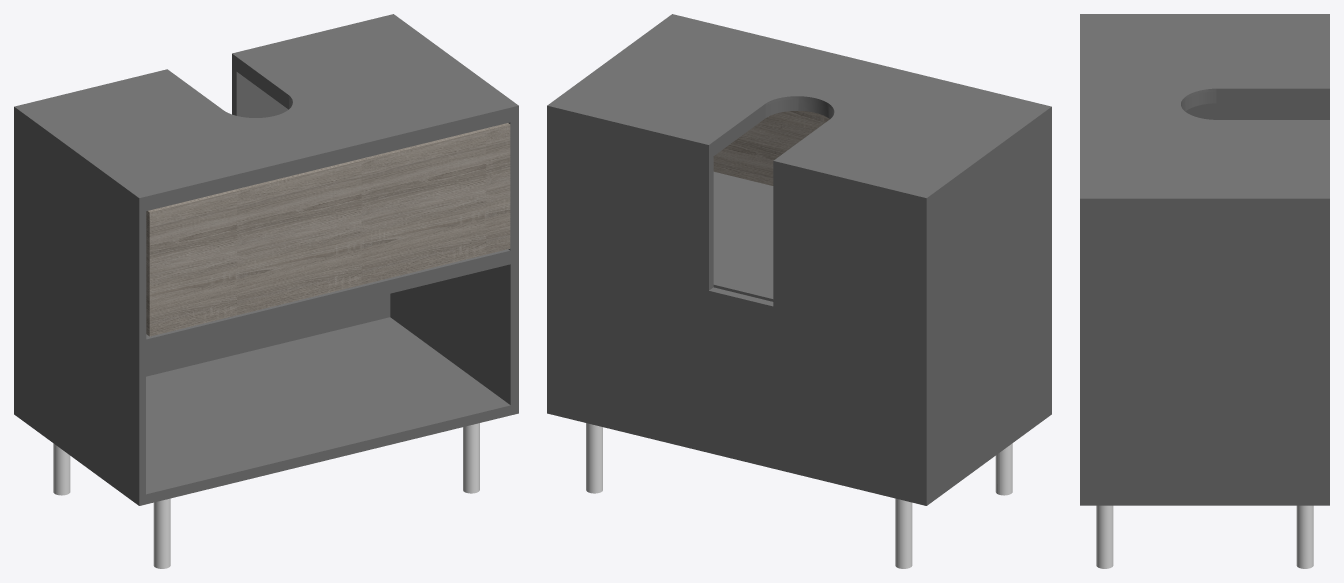
File: Waschtischunterbau.glb
The picture shows the model from 3 angles, left to right: view 1: azimuth 30°, elevation 25°; view 2: azimuth 150°, elevation 25°; view 3: azimuth 270°, elevation 25°; orthographic projection.
Visible parts, largest first — view 1: Mesh1 Component_193 G_23_Waschtischunterbau_dwg1 Model, Mesh19 Component_199 G_23_Waschtischunterbau_dwg1 Model, Mesh21 Component_200 G_23_Waschtischunterbau_dwg1 Model, Mesh23 Component_201 G_23_Waschtischunterbau_dwg1 Model, Mesh25 Component_202 G_23_Waschtischunterbau_dwg1 Model; view 2: Mesh1 Component_193 G_23_Waschtischunterbau_dwg1 Model, Mesh19 Component_199 G_23_Waschtischunterbau_dwg1 Model, Mesh25 Component_202 G_23_Waschtischunterbau_dwg1 Model, Mesh27 Component_203 G_23_Waschtischunterbau_dwg1 Model, Mesh21 Component_200 G_23_Waschtischunterbau_dwg1 Model; view 3: Mesh1 Component_193 G_23_Waschtischunterbau_dwg1 Model, Mesh27 Component_203 G_23_Waschtischunterbau_dwg1 Model, Mesh23 Component_201 G_23_Waschtischunterbau_dwg1 Model.
Boxes of the visible parts, x1=… form: Mesh1 Component_193 G_23_Waschtischunterbau_dwg1 Model: x1=14, y1=14, x2=518, y2=505; Mesh19 Component_199 G_23_Waschtischunterbau_dwg1 Model: x1=146, y1=123, x2=510, y2=336; Mesh21 Component_200 G_23_Waschtischunterbau_dwg1 Model: x1=153, y1=498, x2=170, y2=568; Mesh23 Component_201 G_23_Waschtischunterbau_dwg1 Model: x1=463, y1=423, x2=479, y2=493; Mesh25 Component_202 G_23_Waschtischunterbau_dwg1 Model: x1=53, y1=443, x2=70, y2=495; Mesh1 Component_193 G_23_Waschtischunterbau_dwg1 Model: x1=547, y1=14, x2=1051, y2=505; Mesh19 Component_199 G_23_Waschtischunterbau_dwg1 Model: x1=713, y1=111, x2=829, y2=185; Mesh25 Component_202 G_23_Waschtischunterbau_dwg1 Model: x1=895, y1=498, x2=912, y2=568; Mesh27 Component_203 G_23_Waschtischunterbau_dwg1 Model: x1=586, y1=423, x2=602, y2=493; Mesh21 Component_200 G_23_Waschtischunterbau_dwg1 Model: x1=995, y1=443, x2=1012, y2=495; Mesh1 Component_193 G_23_Waschtischunterbau_dwg1 Model: x1=1080, y1=14, x2=1329, y2=505; Mesh27 Component_203 G_23_Waschtischunterbau_dwg1 Model: x1=1296, y1=505, x2=1313, y2=568; Mesh23 Component_201 G_23_Waschtischunterbau_dwg1 Model: x1=1096, y1=505, x2=1113, y2=568.
Size of the model in its own units: 77.41 by 75 by 44.22.
6 materials, 2 textured.
